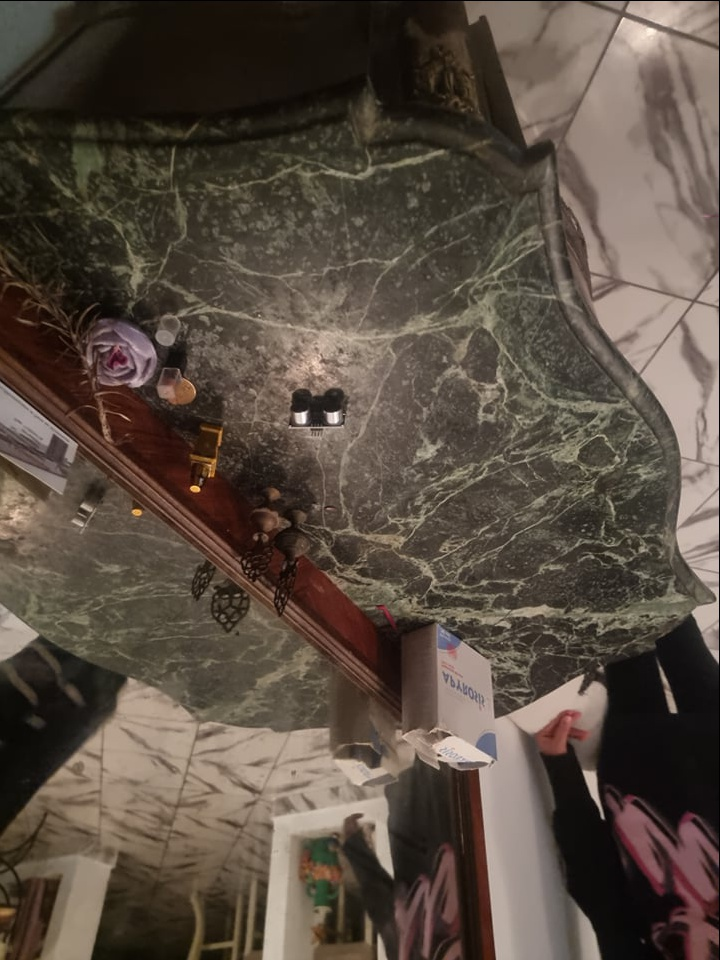SENSOR: (288, 400, 352, 433)
